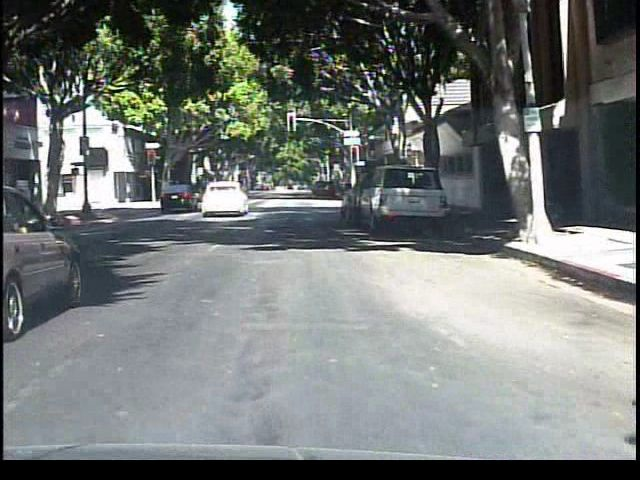person: (197, 170, 221, 213)
